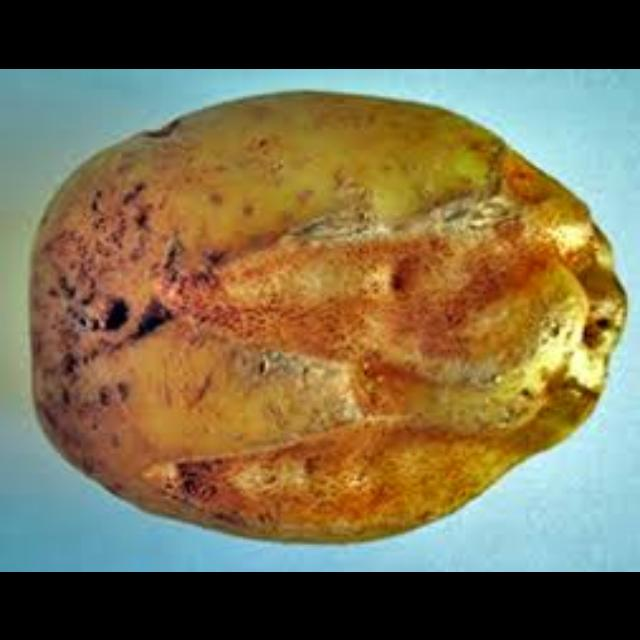Damaged potato: (17, 82, 633, 550)
